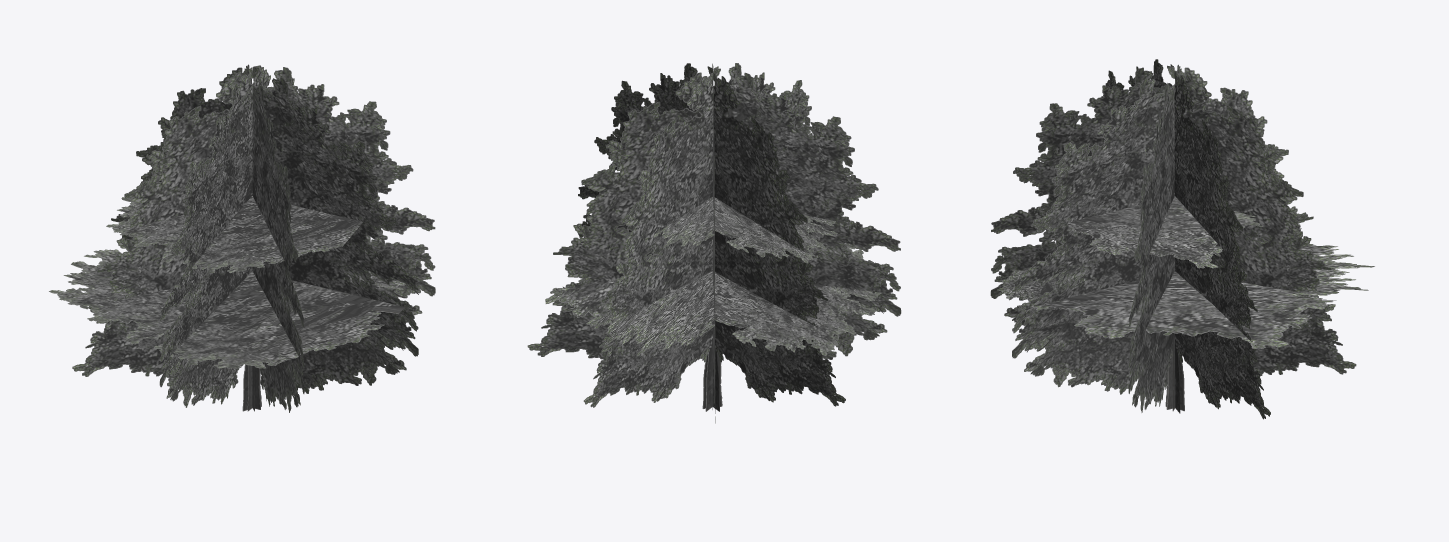
The model's file is Especie 01 Arbol 01.fbx.
The picture shows the model from 3 angles, left to right: view 1: azimuth 30°, elevation 25°; view 2: azimuth 150°, elevation 25°; view 3: azimuth 270°, elevation 25°; orthographic projection.
Parts seen in each view (by area): view 1: Plane_004; view 2: Plane_004; view 3: Plane_004.
Part boxes in pixels (x1,y1,x2,y2): Plane_004: (49, 64, 435, 412); Plane_004: (527, 63, 901, 423); Plane_004: (990, 59, 1374, 419).
Bounding box in the file's own units: 2.45 × 2.27 × 2.56.
